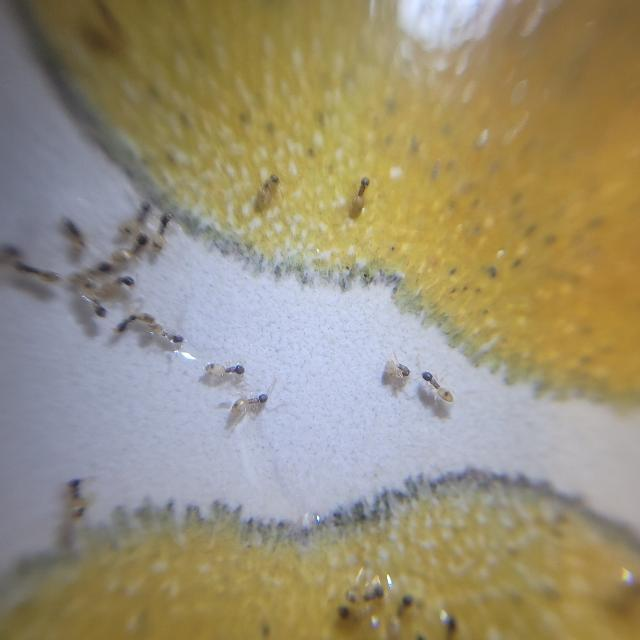Tapinoma: (220, 384, 282, 438), (403, 593, 465, 631), (343, 174, 377, 228), (418, 365, 459, 407), (94, 263, 142, 291), (343, 580, 383, 612), (12, 260, 64, 284), (116, 230, 152, 264), (250, 168, 282, 206), (63, 478, 91, 520), (78, 280, 108, 318), (64, 214, 96, 248), (205, 356, 248, 379), (380, 352, 414, 380), (149, 320, 185, 346), (154, 212, 176, 254), (112, 310, 136, 336), (132, 200, 154, 228)
